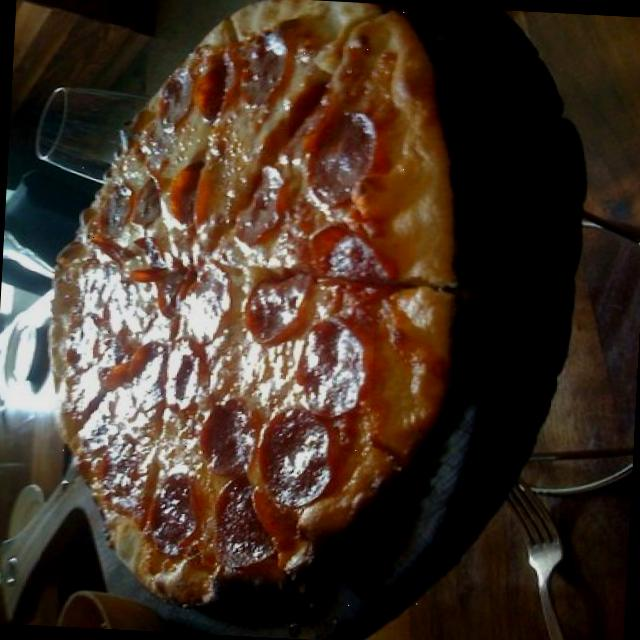pepperoni: (294, 100, 394, 217), (145, 50, 247, 140), (208, 456, 284, 574), (226, 261, 326, 347), (251, 407, 341, 497), (288, 322, 374, 412), (147, 462, 211, 564), (188, 398, 270, 477), (304, 226, 396, 291), (130, 247, 203, 320), (98, 438, 156, 526), (230, 176, 292, 256), (153, 330, 213, 410), (90, 331, 163, 394), (106, 174, 171, 240), (161, 170, 228, 226), (240, 27, 287, 106)
pizza: (52, 0, 455, 604)
